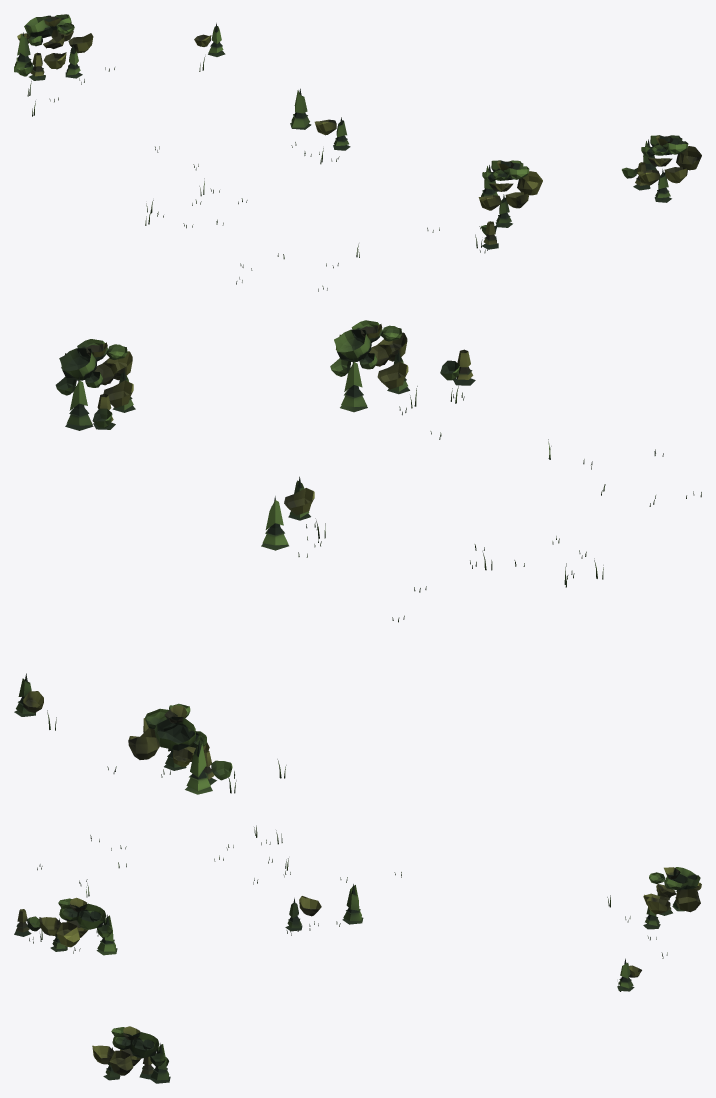
Rendered from Wood_Plant_01.FBX.
3 renders of one model, top to bottom at view 1: azimuth 30°, elevation 25°; view 2: azimuth 150°, elevation 25°; view 3: azimuth 270°, elevation 25°, orthographic. The views are drawn at different scales.
Parts seen in each view (by area): view 1: Wood_Plant_01; view 2: Wood_Plant_01; view 3: Wood_Plant_01.
Boxes of the visible parts, x1,y1,x2,y2 form: Wood_Plant_01: (14,14,701,291); Wood_Plant_01: (14,320,701,794); Wood_Plant_01: (14,825,701,1083).
Size of the model in its own units: 33.69 by 6.95 by 41.95.
